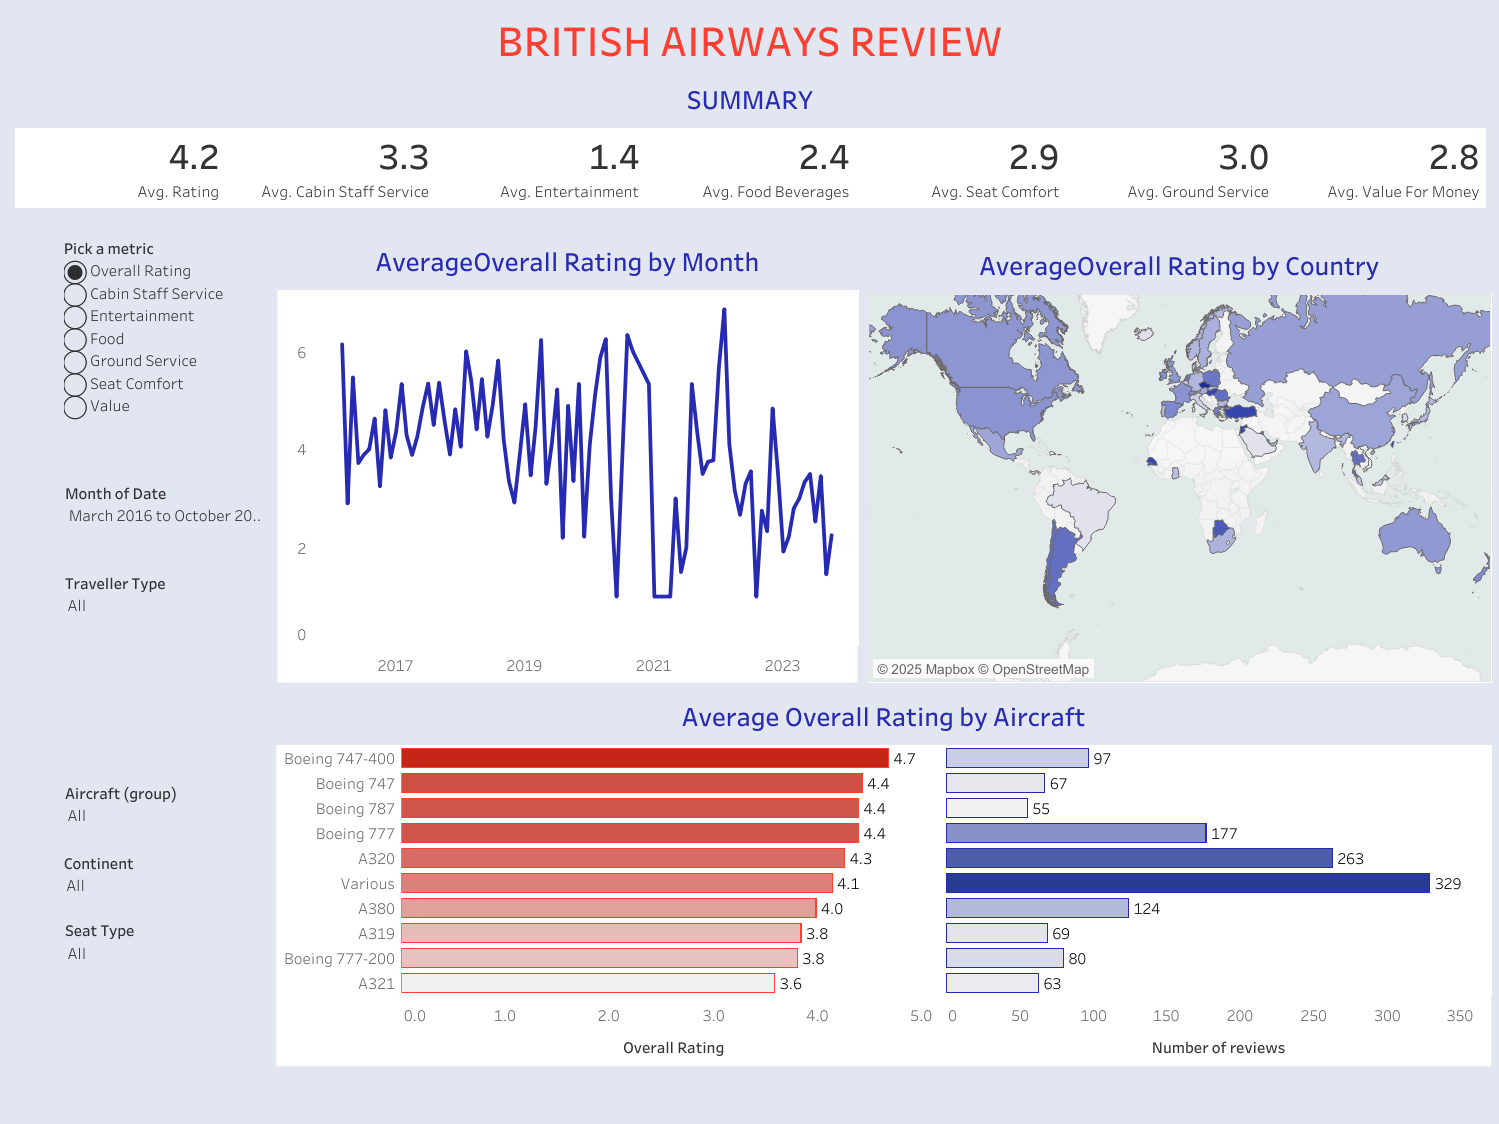

This screenshot's page, from the dashboard's own definition file:
{"tool":"tableau","page":{"name":"Dashboard 1","canvas":[1200,900],"ordinal":0},"visuals":[{"type":"title","box":[8,8,1184,47]},{"type":"worksheet","title":"Summary","mark":"Automatic","box":[8,55,1184,114]},{"type":"parameter","param":"[Parameters].[Parameter 1]","box":[51,187.7,160,201.9]},{"type":"worksheet","title":"Month","mark":"Automatic","rows":["Calculation_336081128950476800"],"cols":["date"],"box":[222,189,464,357.4]},{"type":"worksheet","title":"Map","mark":"Automatic","box":[694,191.6,499,354.9]},{"type":"filter","title":"Map","param":"[federated.1qqgeeg0d3fjjn1diwp0e1naitom].[tmn:date:qk]","box":[52,384.4,160,70.7]},{"type":"filter","title":"Map","param":"[federated.1qqgeeg0d3fjjn1diwp0e1naitom].[none:traveller_type:nk]","box":[52,456.4,160,163.3]},{"type":"worksheet","title":"Aircraft","mark":"Automatic","cols":["Calculation_336081128950476800","ba_reviews.csv_D3697E0140CB4A4883ECAAA238E848C0"],"box":[221,552.9,973,336.9]},{"type":"filter","title":"Map","param":"[federated.1qqgeeg0d3fjjn1diwp0e1naitom].[Aircraft (group)]","box":[52,623.6,160,55.3]},{"type":"filter","title":"Map","param":"[federated.1qqgeeg0d3fjjn1diwp0e1naitom].[none:Continent:nk]","box":[51,680.1,160,52.7]},{"type":"filter","title":"Map","param":"[federated.1qqgeeg0d3fjjn1diwp0e1naitom].[none:seat_type:nk]","box":[52,734.1,160,153]}]}

Visuals, with their boxes in screenshot pixels (x1, y1, x2, y2), scaled from the page's 1200x900 canvas onto the 1499x1124 screenshot:
title: (left=10, top=10, right=1489, bottom=69)
"Summary" worksheet: (left=10, top=69, right=1489, bottom=211)
parameter: (left=64, top=234, right=264, bottom=487)
"Month" worksheet: (left=277, top=236, right=857, bottom=682)
"Map" worksheet: (left=867, top=239, right=1490, bottom=683)
"Map" filter: (left=65, top=480, right=265, bottom=568)
"Map" filter: (left=65, top=570, right=265, bottom=774)
"Aircraft" worksheet: (left=276, top=691, right=1492, bottom=1111)
"Map" filter: (left=65, top=779, right=265, bottom=848)
"Map" filter: (left=64, top=849, right=264, bottom=915)
"Map" filter: (left=65, top=917, right=265, bottom=1108)
